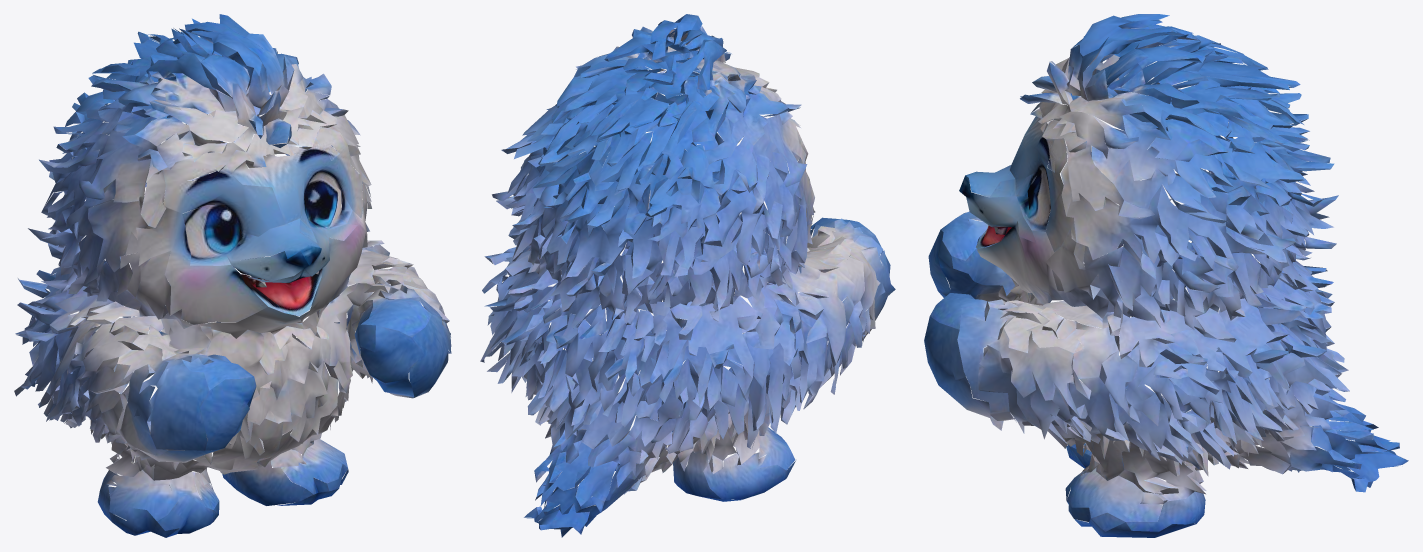
The model's file is mittenyeti.glb.
The picture shows the model from 3 angles, left to right: view 1: azimuth 30°, elevation 25°; view 2: azimuth 150°, elevation 25°; view 3: azimuth 270°, elevation 25°; orthographic projection. The views are drawn at different scales.
Parts seen in each view (by area): view 1: textured_mesh.obj; view 2: textured_mesh.obj; view 3: textured_mesh.obj.
Part boxes in pixels (<box>): textured_mesh.obj: <box>14,14,451,537</box>; textured_mesh.obj: <box>480,14,895,537</box>; textured_mesh.obj: <box>924,14,1408,537</box>.
Size of the model in its own units: 0.7954 by 1 by 0.945.
1 material, 1 textured.
